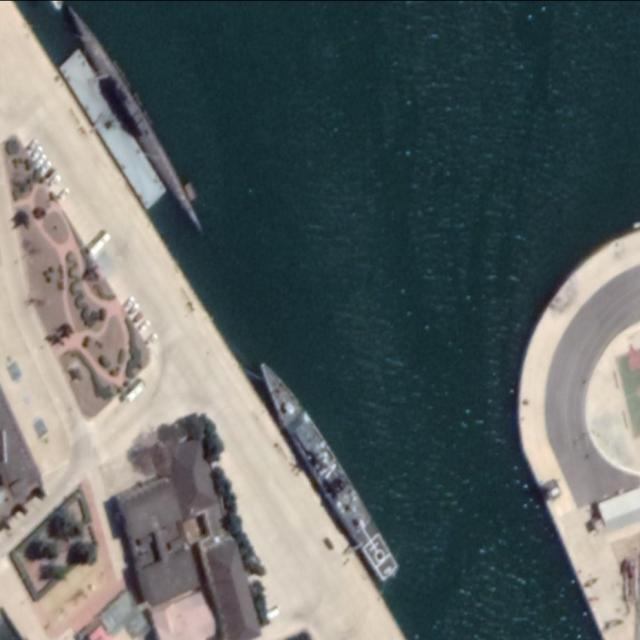Auxiliary Ships: (249, 354, 405, 582)
Submarine: (67, 10, 205, 235)
